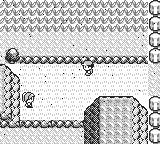captura: (12, 0, 148, 32)
main: (81, 61, 94, 75)
no-caminable: (85, 97, 147, 143), (1, 65, 20, 127), (148, 0, 160, 63), (148, 96, 160, 143), (5, 48, 20, 63)
npc: (22, 92, 35, 108)
salto: (22, 56, 148, 63), (20, 121, 84, 127)
